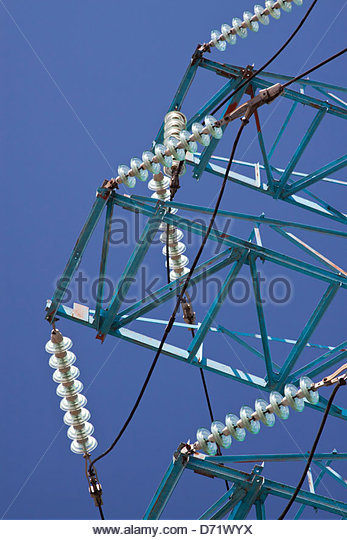isolator: (196, 375, 319, 458), (116, 114, 223, 189), (44, 335, 97, 453), (210, 1, 304, 53), (147, 177, 191, 281), (164, 109, 188, 178)
